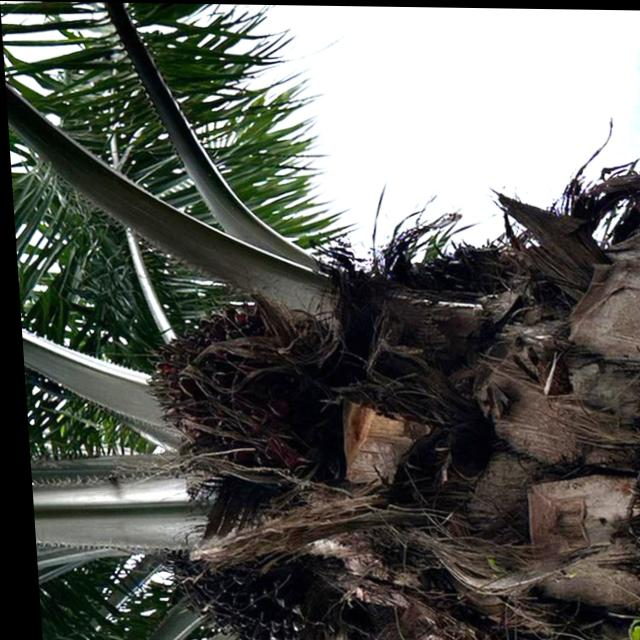ripe: (120, 281, 345, 496)
